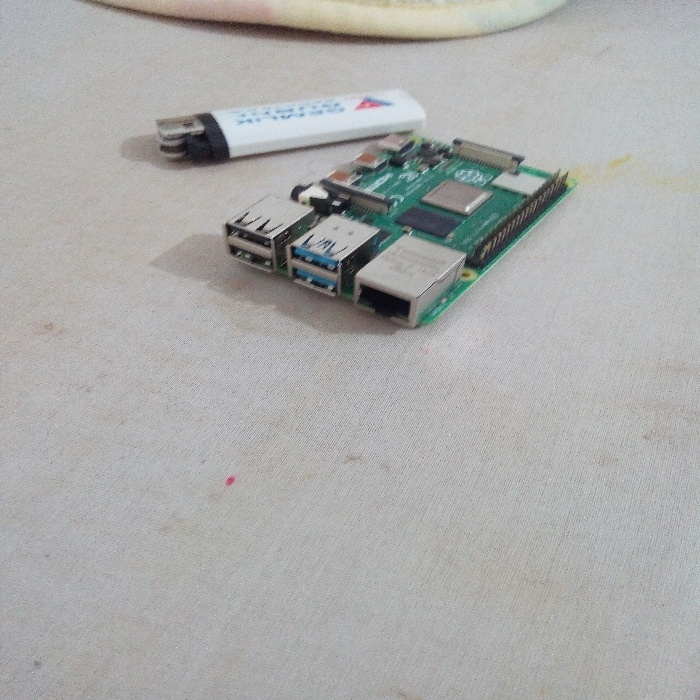raspberry: (204, 111, 589, 328)
